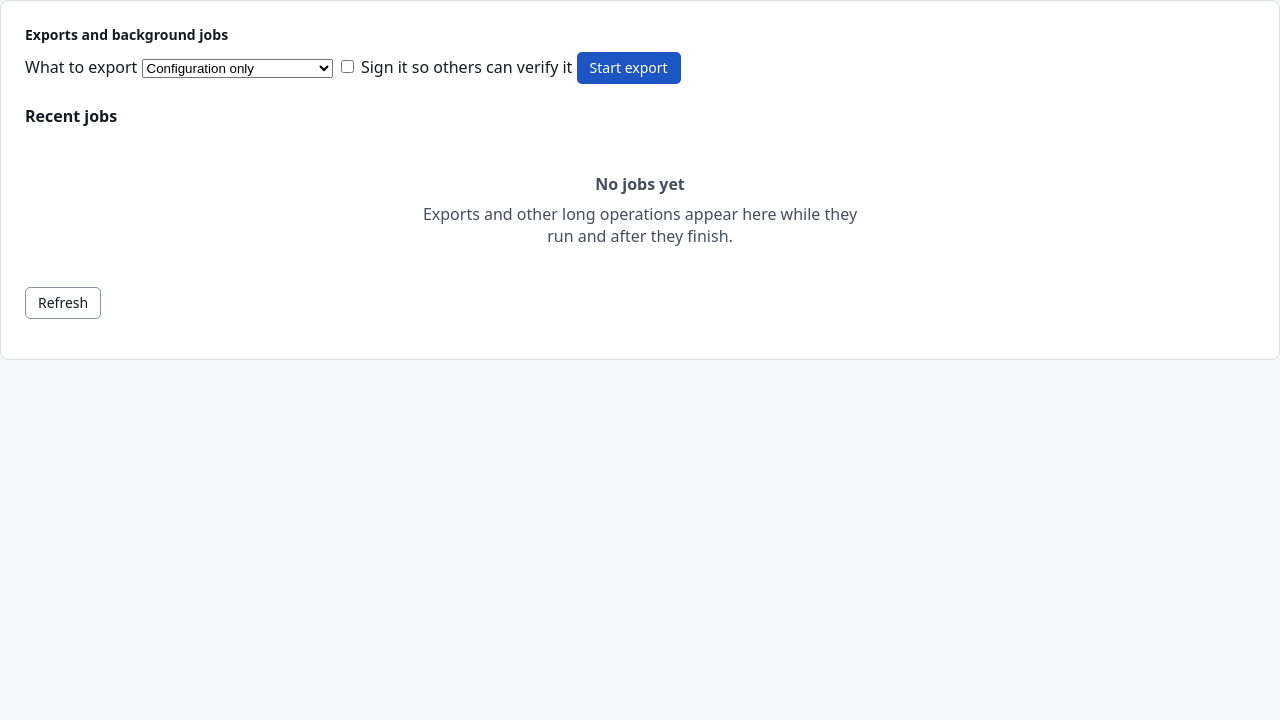
Test: JobsPanel › explains a failed job in the server's words and lets the user try again
Click the button "Start export": click(629, 68) [577,52,681,84]
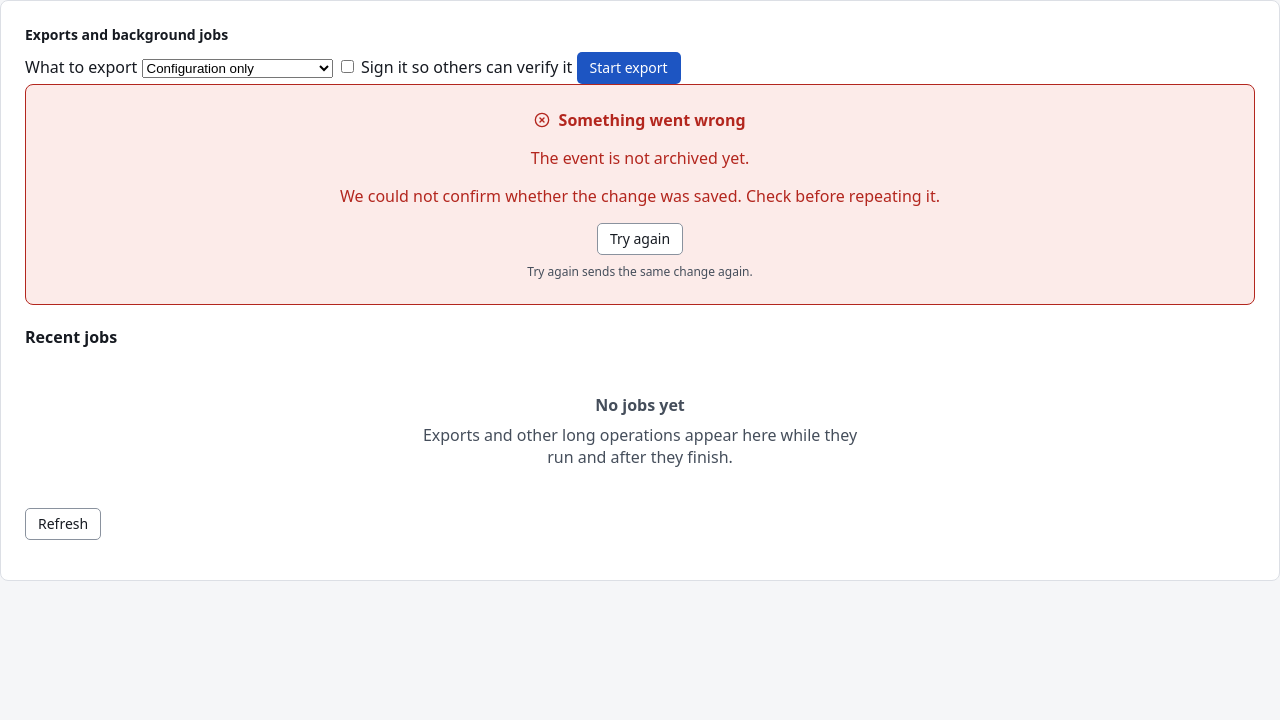
Now the message shows "The event is not archived yet.", box [531,147,749,169]
Now the button "Try again" is shown, box [597,223,683,255]
